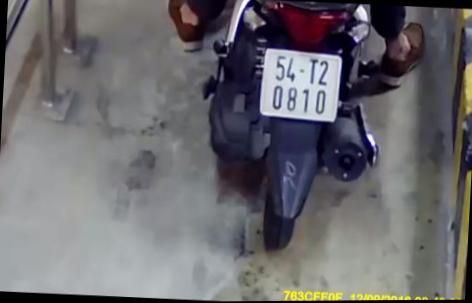LP: (257, 44, 344, 125)
